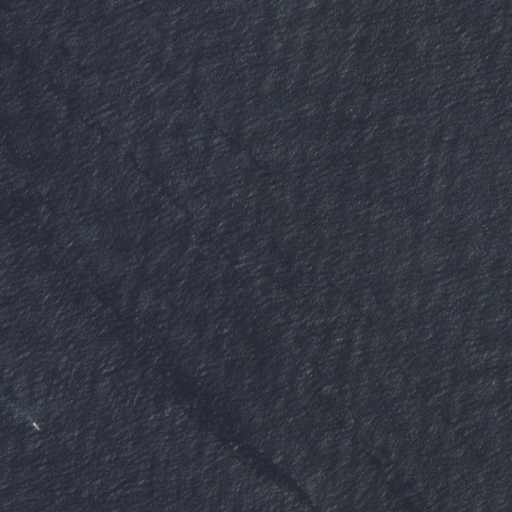ship: (29, 420, 42, 432)
